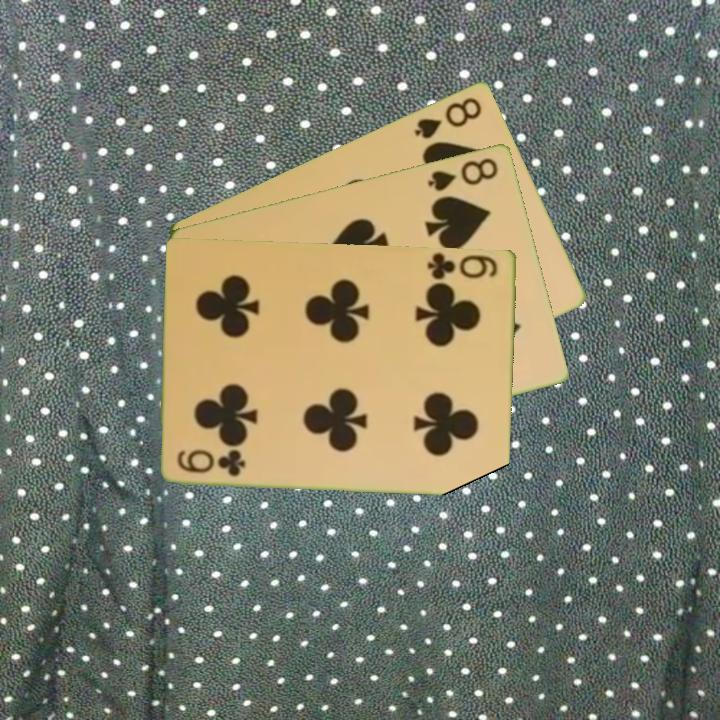6c: (174, 446, 249, 479), (424, 250, 501, 282)
8s: (410, 93, 485, 142), (424, 154, 502, 194)
